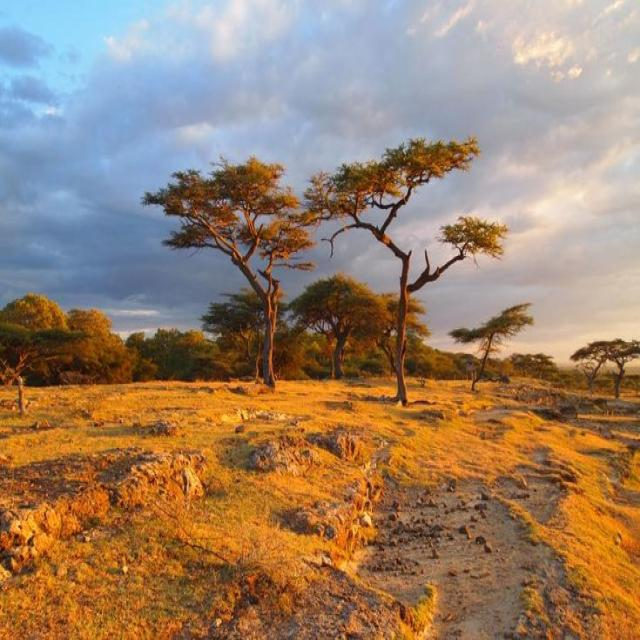Acacia: (318, 150, 461, 393), (153, 165, 300, 398), (568, 322, 640, 404)
